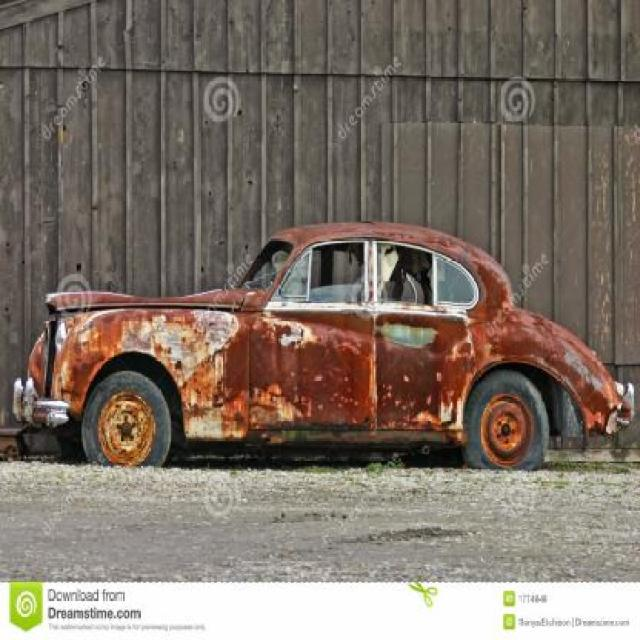corrosion: (20, 217, 638, 475)
